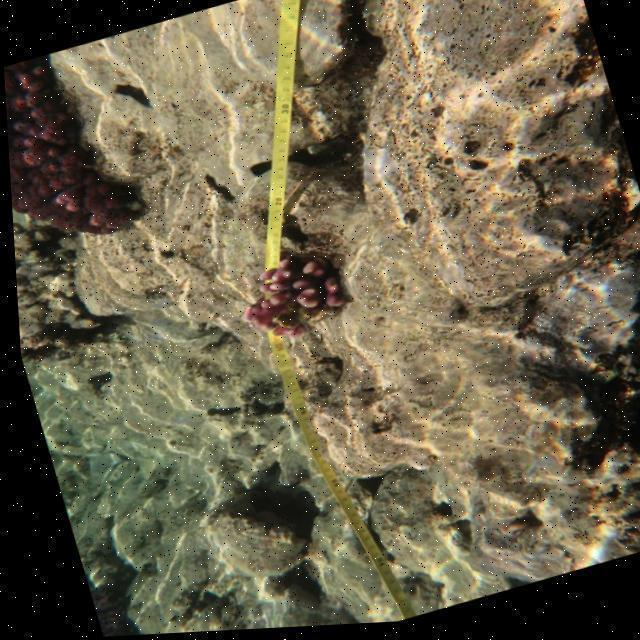Healthy Coral: (2, 37, 151, 267), (215, 236, 356, 356)
